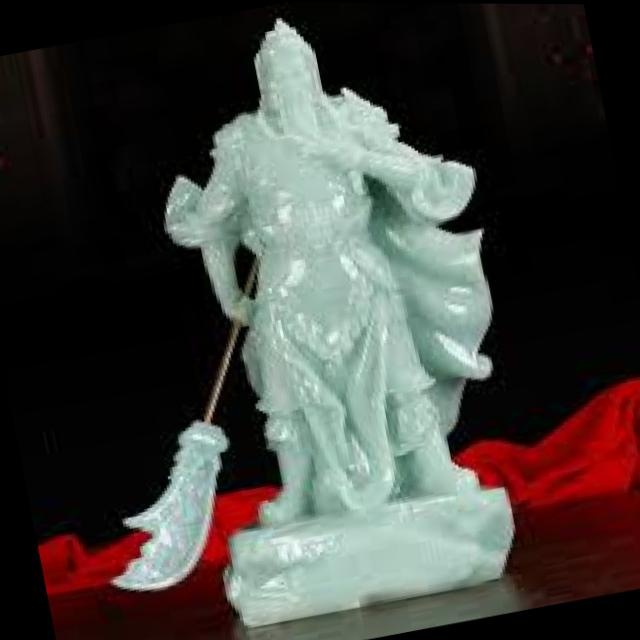Guan Yu: (141, 1, 466, 419)
